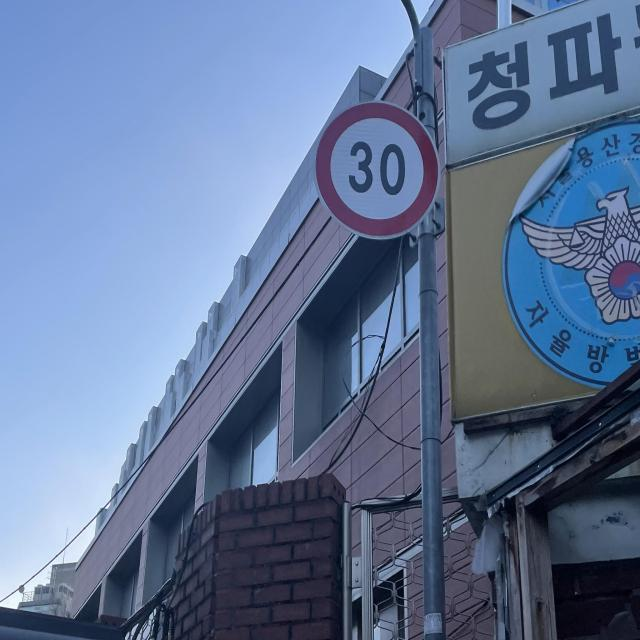speed_limit_30: (316, 101, 438, 238)
